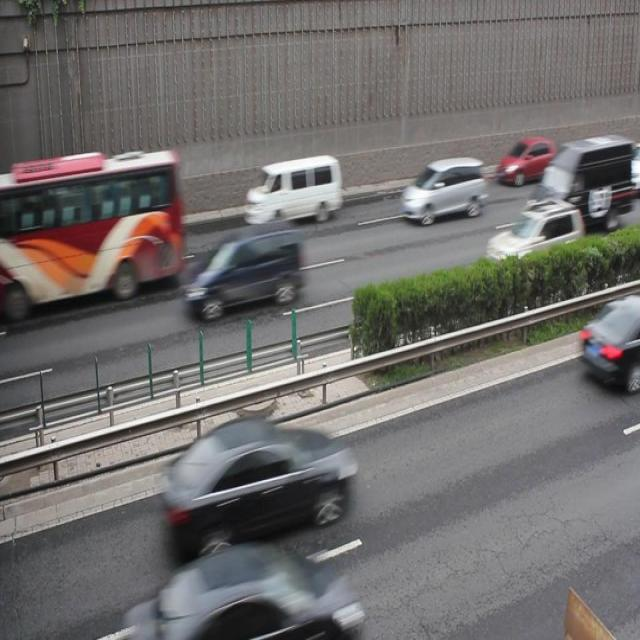car: (160, 412, 352, 548), (119, 535, 358, 640), (519, 134, 640, 239), (486, 198, 583, 278), (495, 135, 559, 185)
truck: (184, 221, 302, 319), (244, 154, 342, 225), (399, 156, 486, 223)
van: (1, 154, 180, 317)
